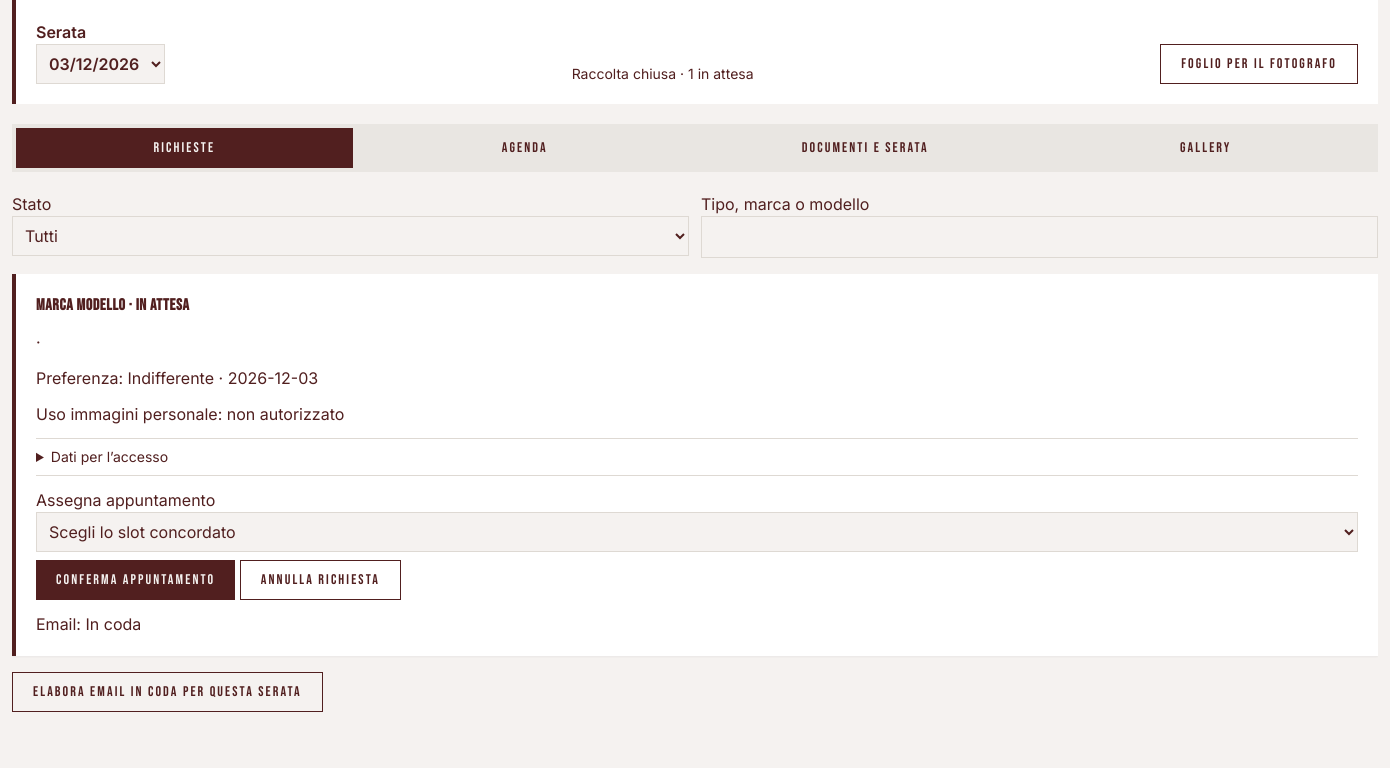
Test: assegna solo lo slot scelto e conserva la conferma se la mail fallisce
Select "2026-12-03 · 18:30–18:45" in the dropdown labelled "Assegna appuntamento": coordinates (697, 532) [36,512,1358,552]
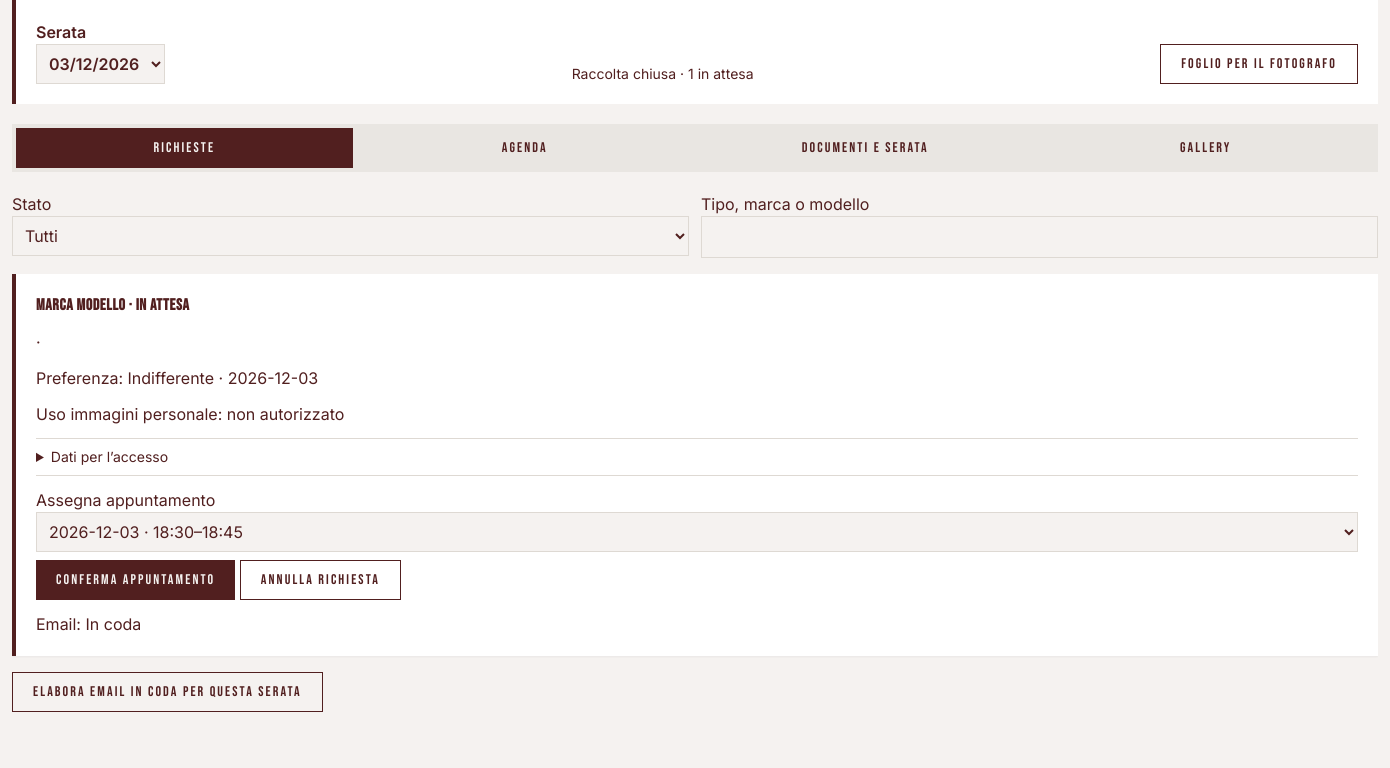
Click the button "Conferma appuntamento": coordinates (136, 580) [36,560,235,600]
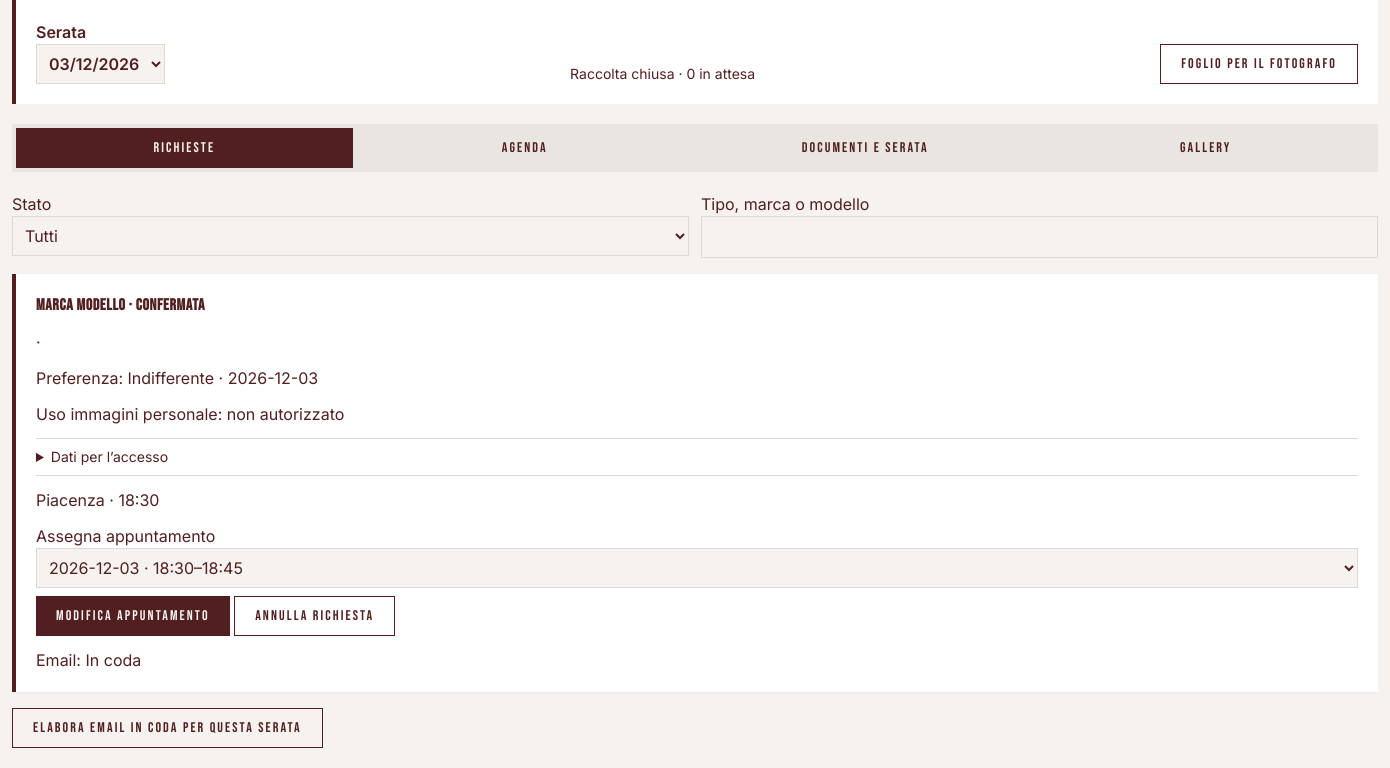
Check: the text "Piacenza · 18:30" is shown, box [36,490,159,510]
Click the button with aria-label "Shooting · Agenda": coordinates (525, 148) [356,128,693,168]
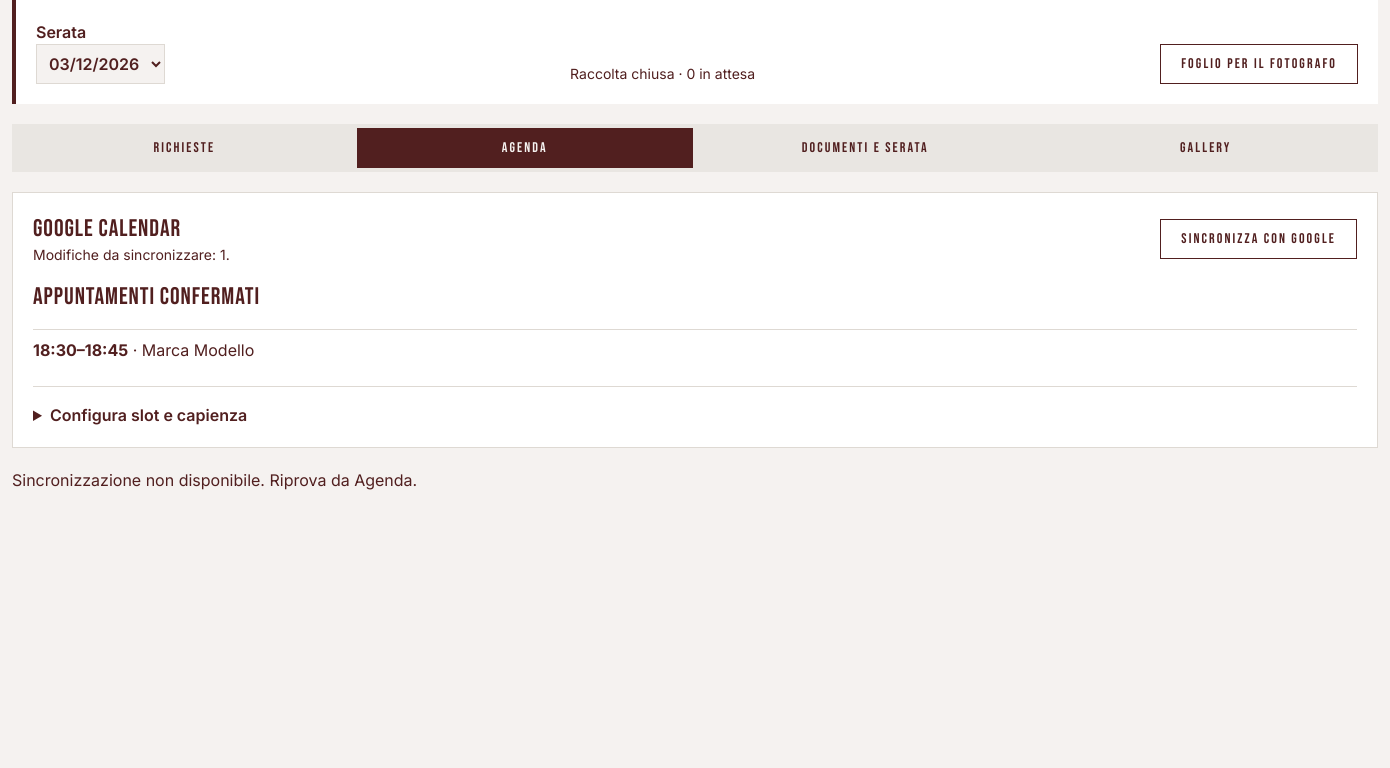
Check: the text "Modifiche da sincronizzare: 1." is shown, box [33,245,230,265]
Click the button "Sincronizza con Google": coordinates (1259, 239) [1160,219,1357,259]
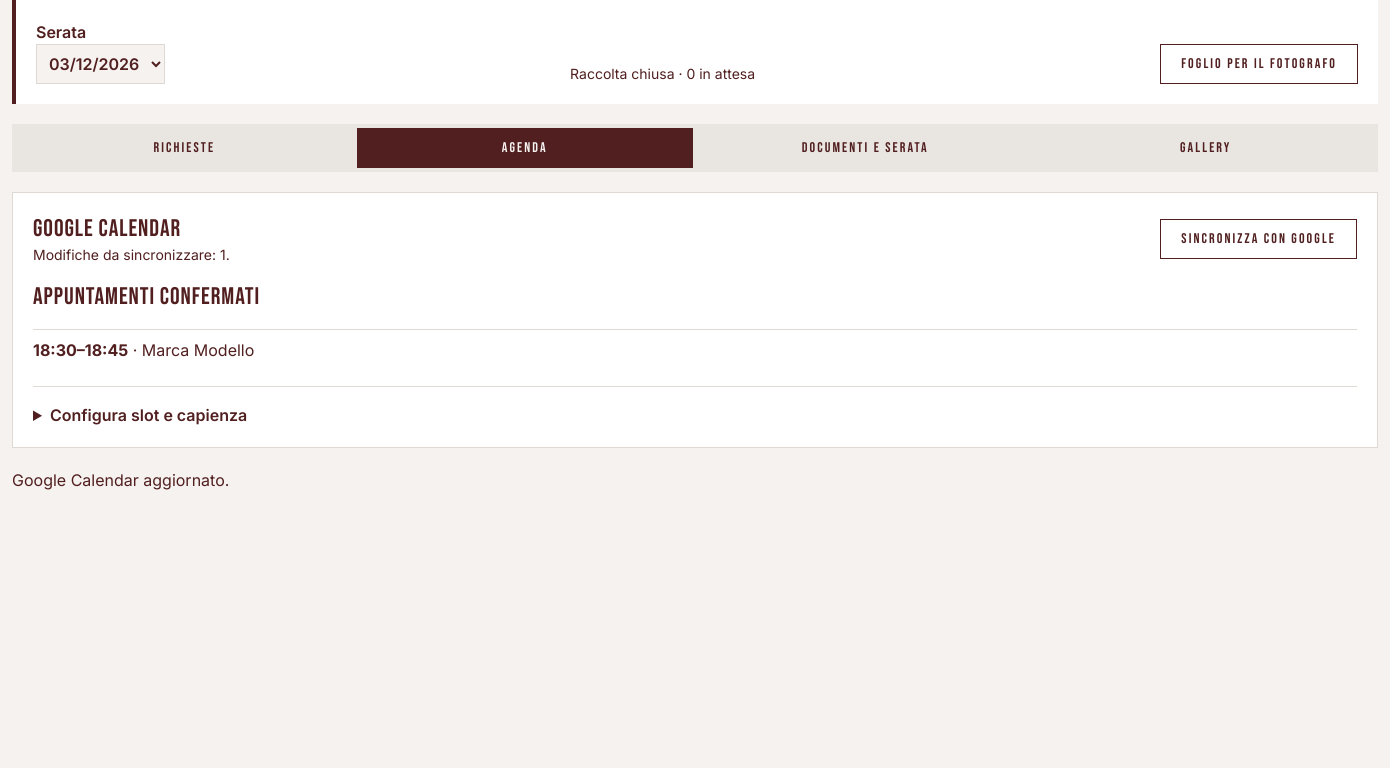
Check: the text "Google Calendar aggiornato." is shown, box [12,470,229,490]
